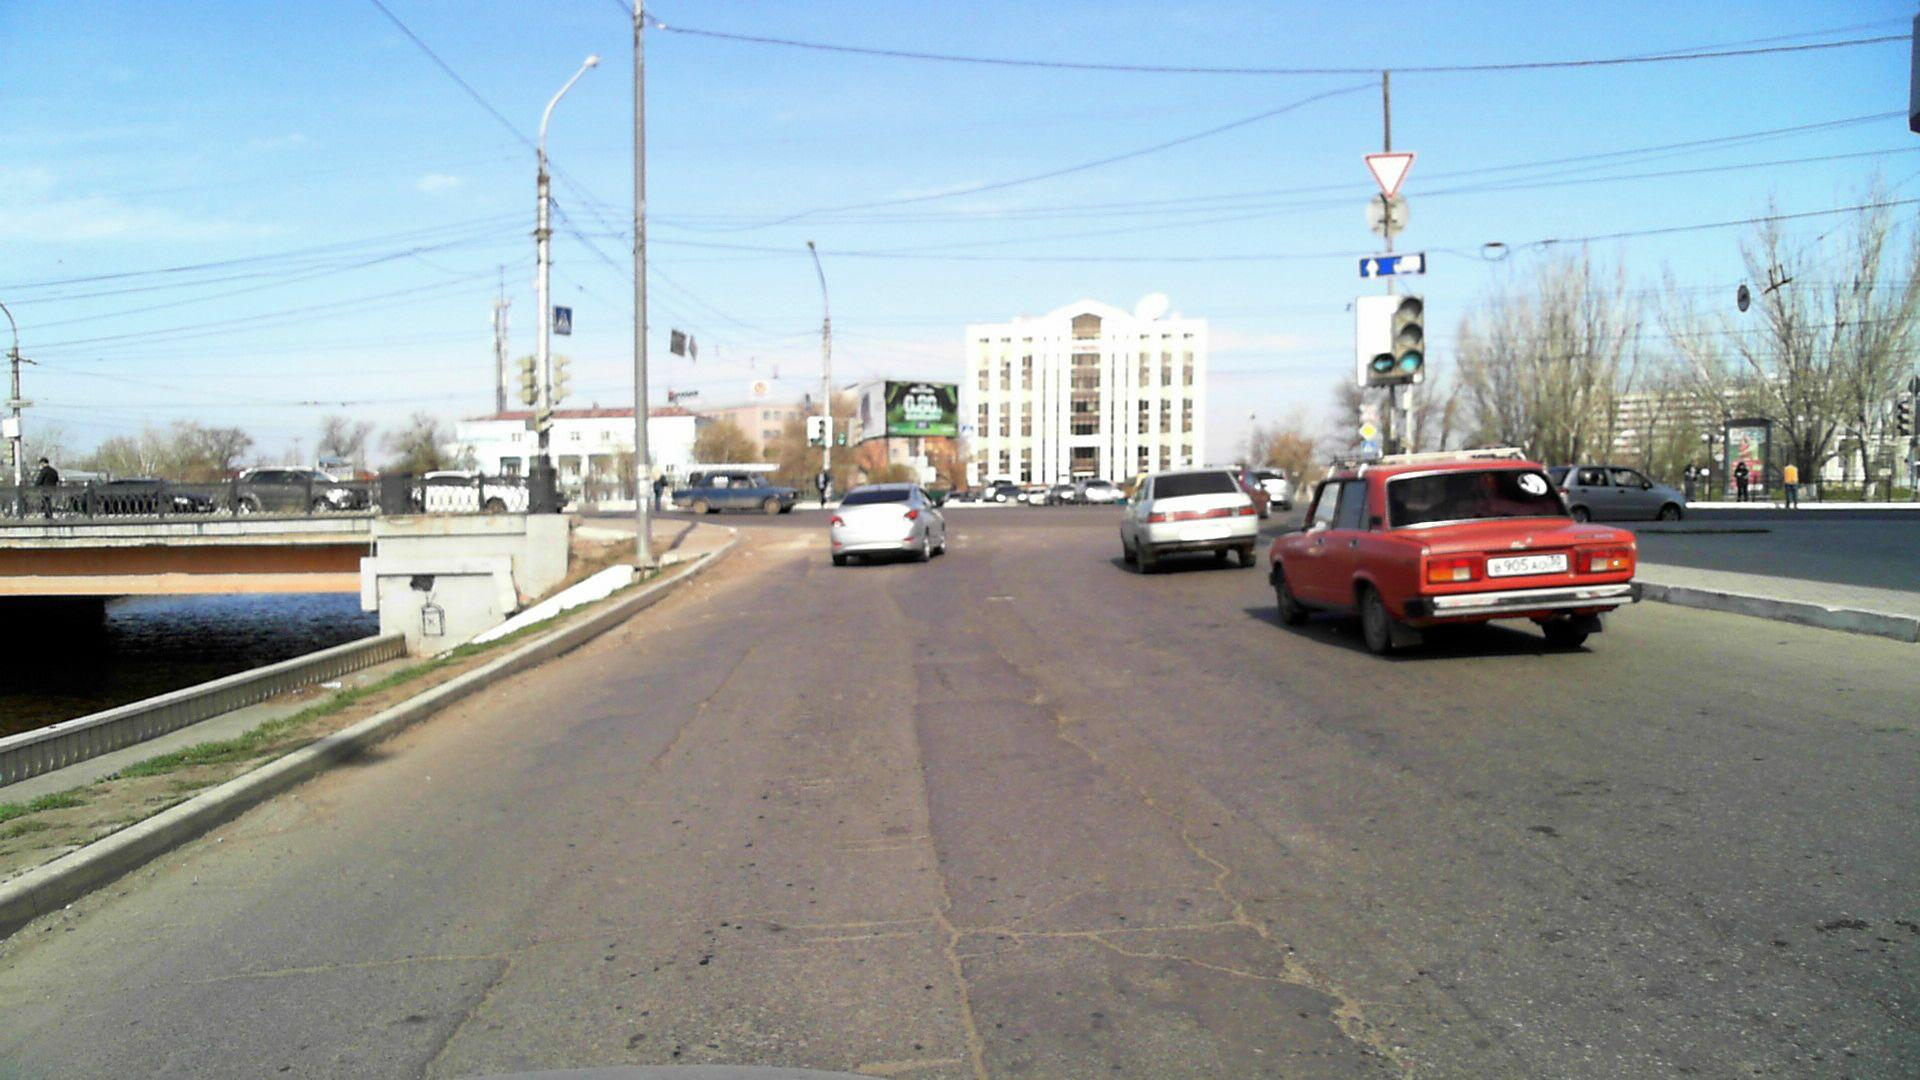2_1: (1358, 421, 1379, 442)
2_4: (1362, 150, 1415, 202)
5_19_1: (1360, 442, 1375, 458)
5_19_2: (554, 307, 576, 336)
6_15_1: (1360, 251, 1423, 278)
